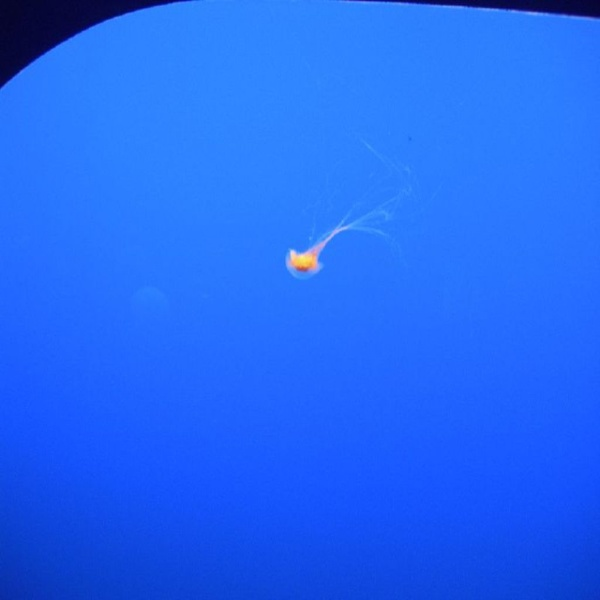Jellyfish: (282, 137, 420, 281)
